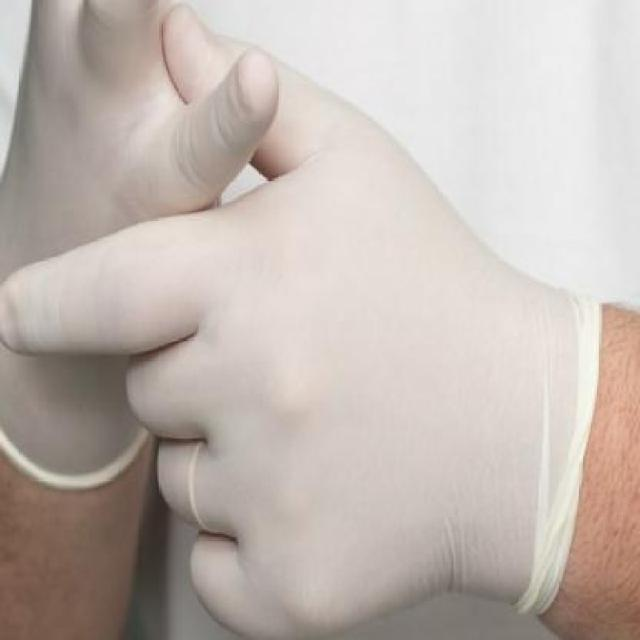gloved_hand: (1, 3, 608, 629)
